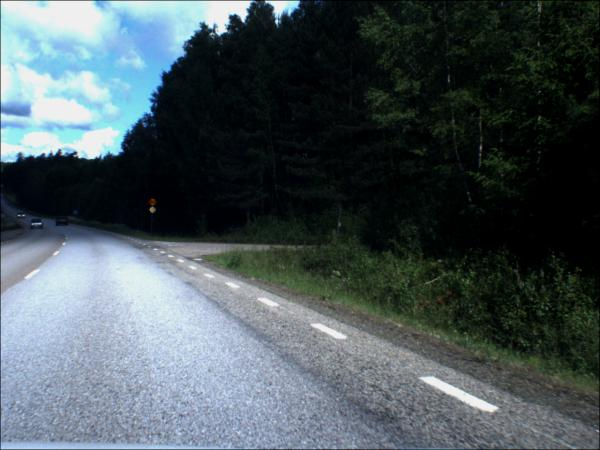80_SIGN: (150, 199, 158, 207)
PRIORITY_ROAD: (151, 208, 158, 215)
